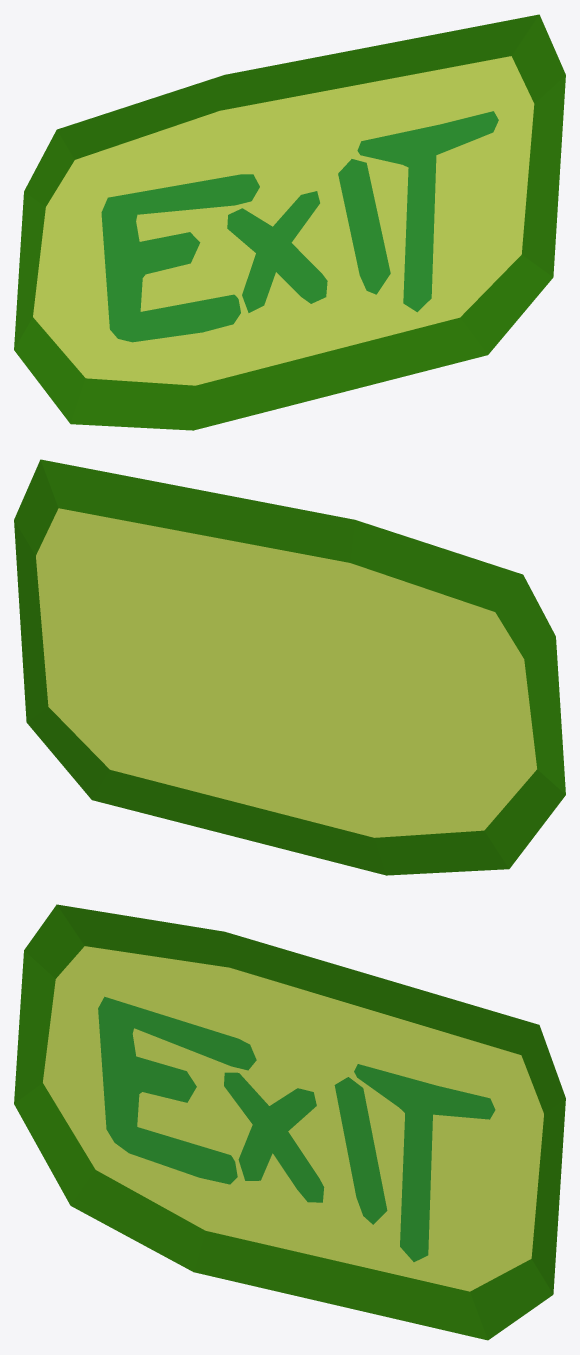
The model's file is exit-003.gltf.
3 views of the same model, one above another, from view 1: azimuth 30°, elevation 25°; view 2: azimuth 150°, elevation 25°; view 3: azimuth 330°, elevation 25° (orthographic).
Visible parts, largest first — view 1: Cartel-Exit-f.003; view 2: Cartel-Exit-f.003; view 3: Cartel-Exit-f.003.
Part boxes in pixels (x1=…): Cartel-Exit-f.003: x1=14, y1=14, x2=565, y2=430; Cartel-Exit-f.003: x1=14, y1=459, x2=565, y2=875; Cartel-Exit-f.003: x1=14, y1=904, x2=565, y2=1340.
Bounding box in the file's own units: 0.2773 × 0.1671 × 0.00575.
Materials: 1 (1 with a texture image).
